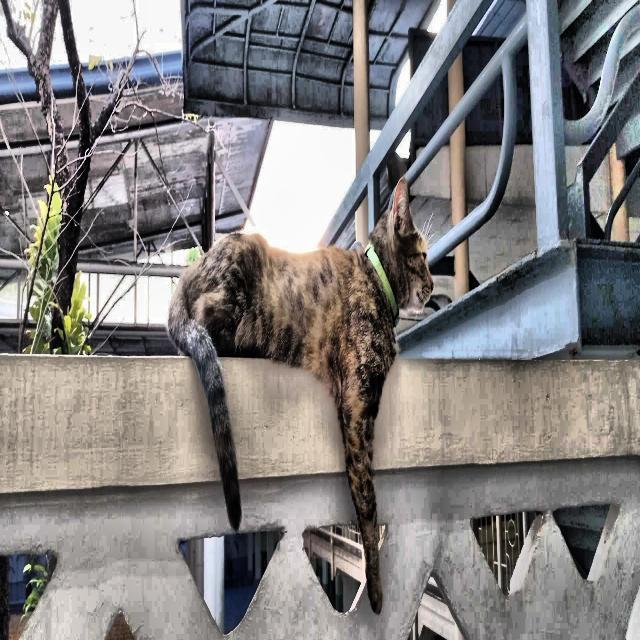Healthy skin: (316, 268, 376, 373)
